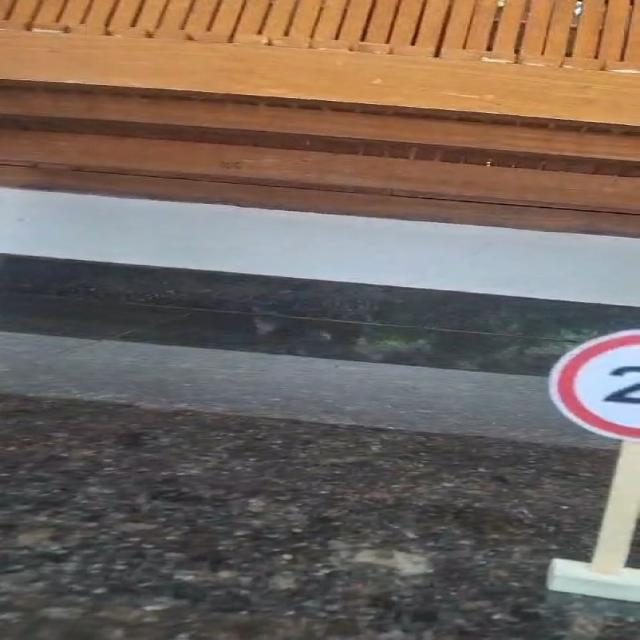Speed20: (539, 319, 640, 450)
